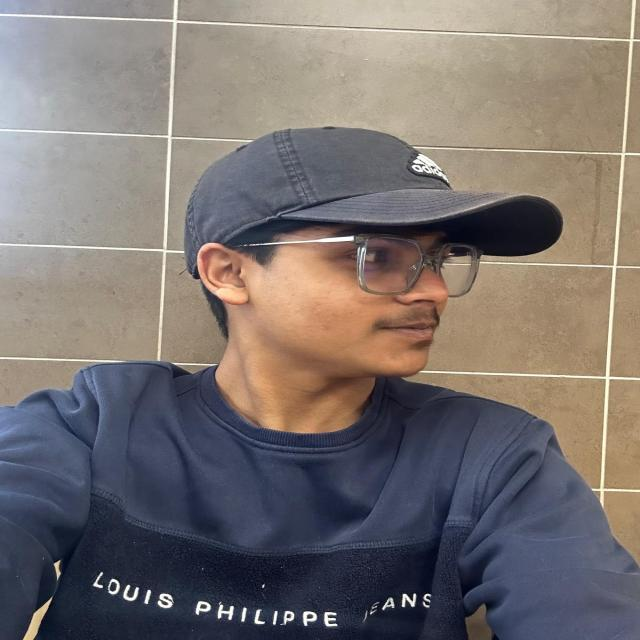cap: (170, 115, 570, 283)
